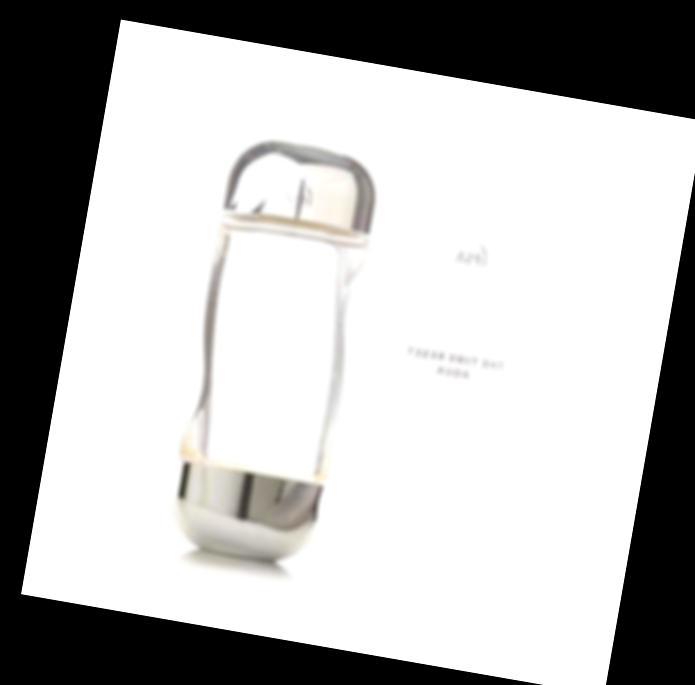cosmetic: (156, 132, 381, 572)
